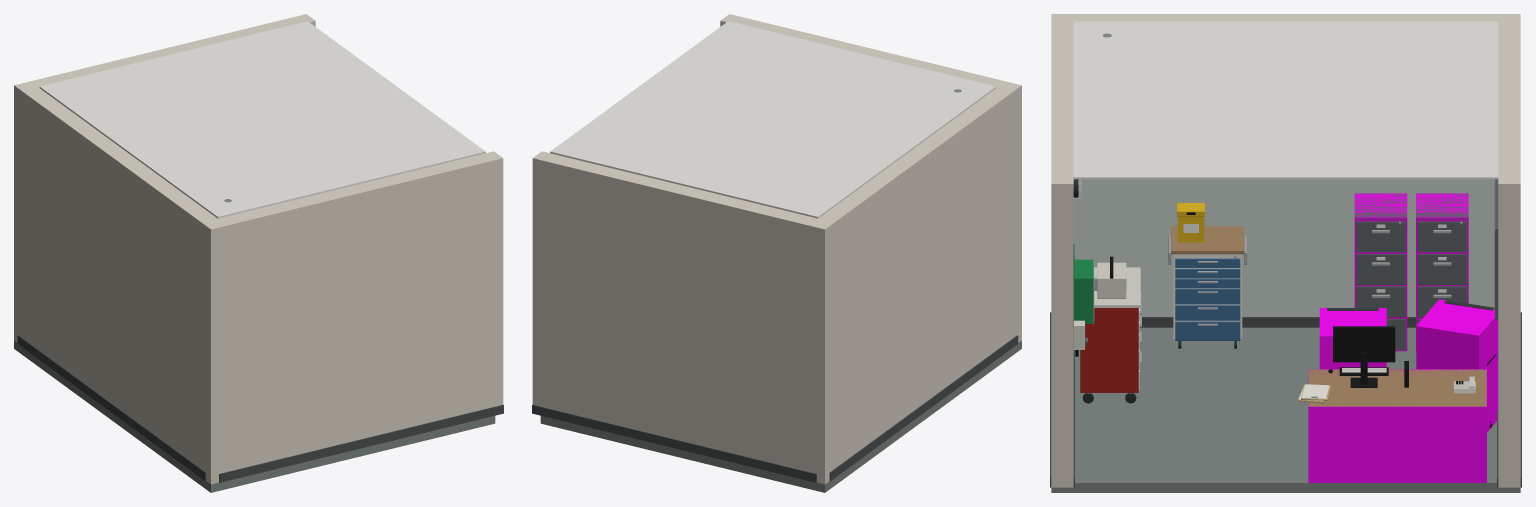
The model's file is ENV_NursingStation.glb.
The picture shows the model from 3 angles, left to right: view 1: azimuth 30°, elevation 25°; view 2: azimuth 150°, elevation 25°; view 3: azimuth 270°, elevation 25°; orthographic projection. The views are drawn at different scales.
Visible parts, largest first — view 1: ENV_NursingStation_Architecture, ENV_NursingStation_Ceiling, ENV_NursingStation_Posts; view 2: ENV_NursingStation_Architecture, ENV_NursingStation_Ceiling, ENV_NursingStation_Posts; view 3: ENV_NursingStation_Architecture, ENV_NursingStation_Ceiling, PROP_Desk_Clinical_COL-colonly.001, PROP_Cart_Medication_Mesh, PROP_Cart_Crash_Resus_Mesh, PROP_Cabinet_Filing_4Drawer_Mesh.002, PROP_Chair_Office_COL-colonly.002, PROP_Cabinet_Filing_4Drawer_Mesh.001, PROP_Desk_Clinical_Mesh.001, PROP_Terminal_EHR_Mesh.001, PROP_Cabinet_Filing_4Drawer_COL-colonly.002, PROP_Chair_Office_COL-colonly.001 (+4 smaller).
Boxes of the visible parts, bbox=[...] form: ENV_NursingStation_Architecture: bbox=[14, 14, 503, 492]; ENV_NursingStation_Ceiling: bbox=[39, 21, 485, 218]; ENV_NursingStation_Posts: bbox=[14, 81, 226, 484]; ENV_NursingStation_Architecture: bbox=[532, 14, 1021, 492]; ENV_NursingStation_Ceiling: bbox=[550, 21, 996, 218]; ENV_NursingStation_Posts: bbox=[808, 83, 1021, 484]; ENV_NursingStation_Architecture: bbox=[1050, 14, 1521, 492]; ENV_NursingStation_Ceiling: bbox=[1073, 21, 1498, 180]; PROP_Desk_Clinical_COL-colonly.001: bbox=[1308, 369, 1486, 482]; PROP_Cart_Medication_Mesh: bbox=[1168, 226, 1247, 348]; PROP_Cart_Crash_Resus_Mesh: bbox=[1075, 256, 1141, 403]; PROP_Cabinet_Filing_4Drawer_Mesh.002: bbox=[1355, 193, 1406, 350]; PROP_Chair_Office_COL-colonly.002: bbox=[1416, 299, 1498, 432]; PROP_Cabinet_Filing_4Drawer_Mesh.001: bbox=[1416, 193, 1468, 324]; PROP_Desk_Clinical_Mesh.001: bbox=[1308, 369, 1486, 409]; PROP_Terminal_EHR_Mesh.001: bbox=[1328, 326, 1408, 387]; PROP_Cabinet_Filing_4Drawer_COL-colonly.002: bbox=[1354, 193, 1407, 351]; PROP_Chair_Office_COL-colonly.001: bbox=[1319, 308, 1386, 369].
Size of what is drawn, in the model's own units: 3.61 by 3.13 by 4.22.
